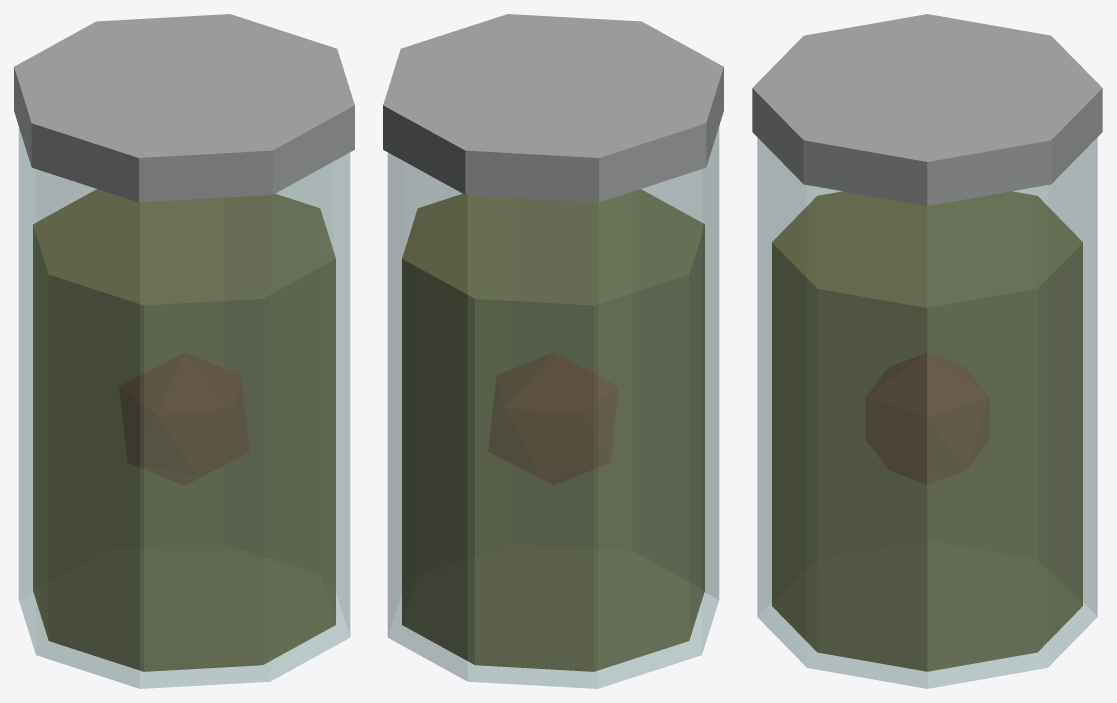
Rendered from jar.glb.
The picture shows the model from 3 angles, left to right: view 1: azimuth 30°, elevation 25°; view 2: azimuth 150°, elevation 25°; view 3: azimuth 270°, elevation 25°; orthographic projection.
Visible parts, largest first — view 1: jar; view 2: jar; view 3: jar.
Boxes of the visible parts, x1,y1,x2,y2 form: jar: (14, 14, 354, 688); jar: (383, 14, 723, 688); jar: (752, 14, 1102, 688).
Size of the model in its own units: 0.144 by 0.24 by 0.144.
